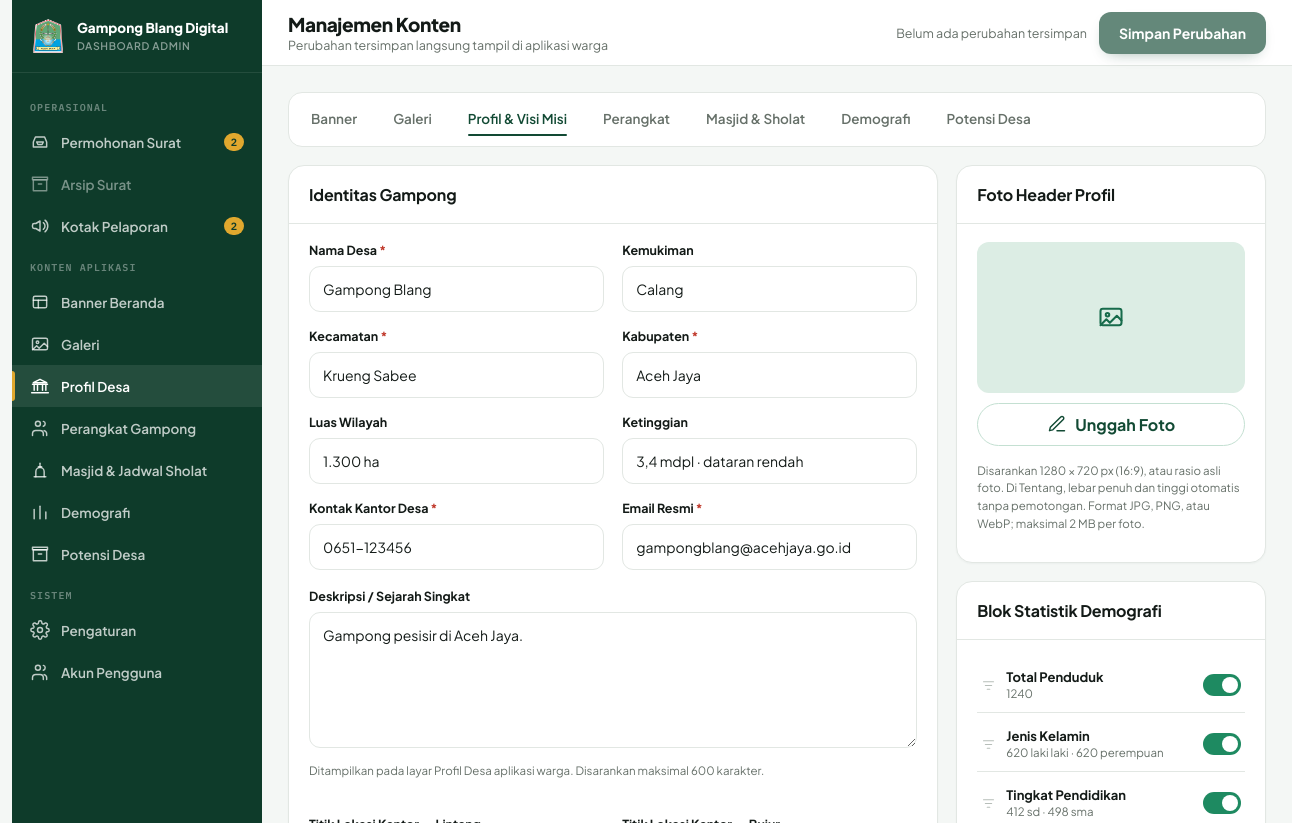
Test case: content hub shell › does not carry unsaved state from one tab into another
This screenshot has width=1292, height=823.
In the field labelled "Kontak Kantor Desa *": (457,547) [309,524,604,570], type "9"
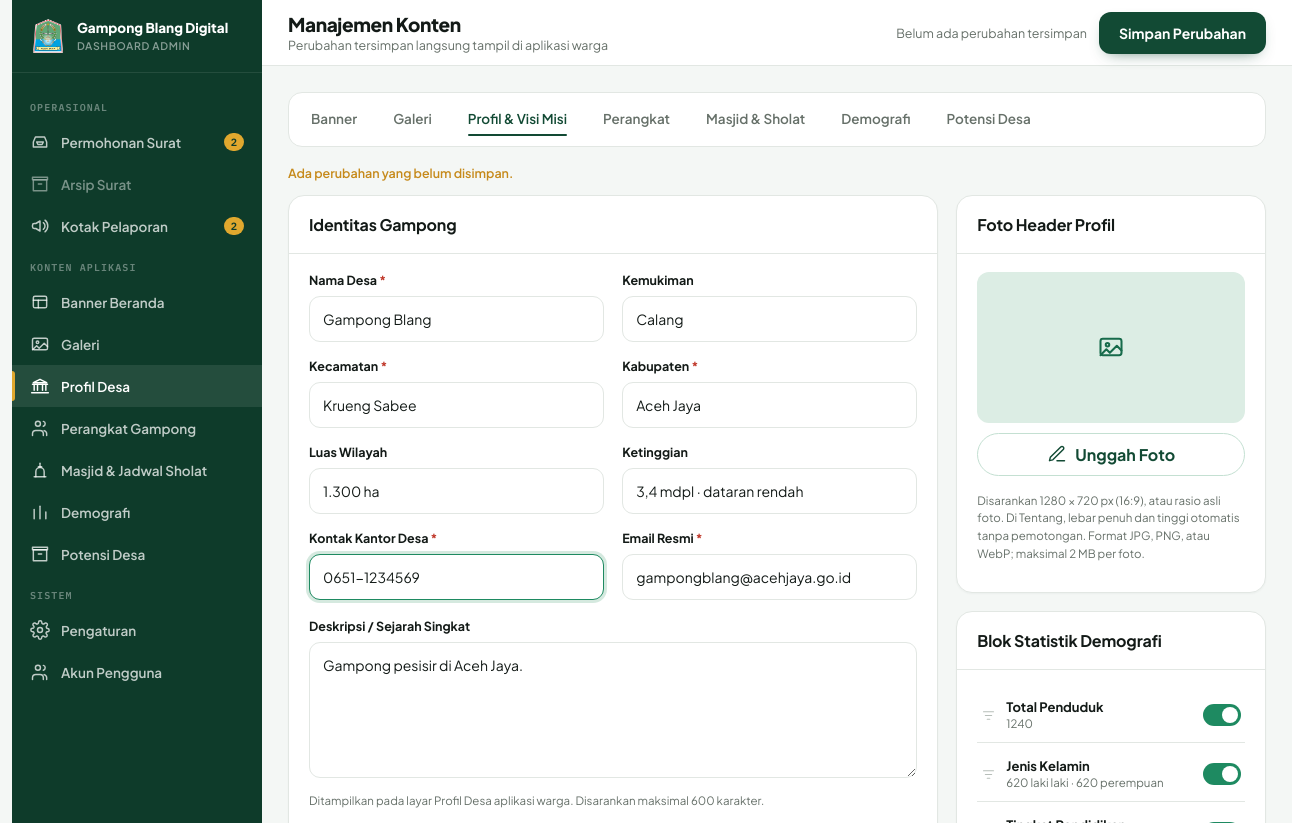
Check: the button "Simpan Perubahan" is enabled, box [1099,12,1266,54]
Click the tab "Banner": (334,120) [295,99,373,140]
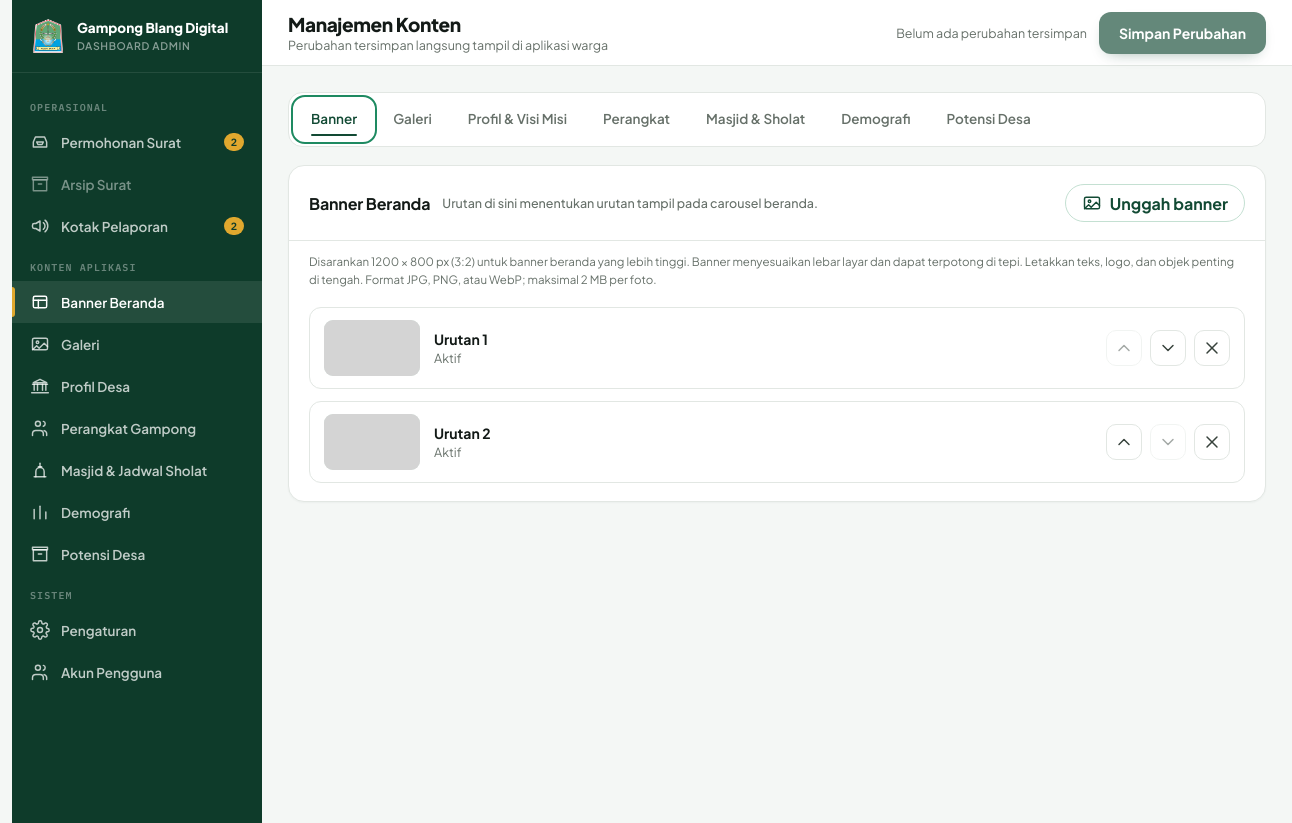
Check: the button "Simpan Perubahan" is disabled, box [1099,12,1266,54]
